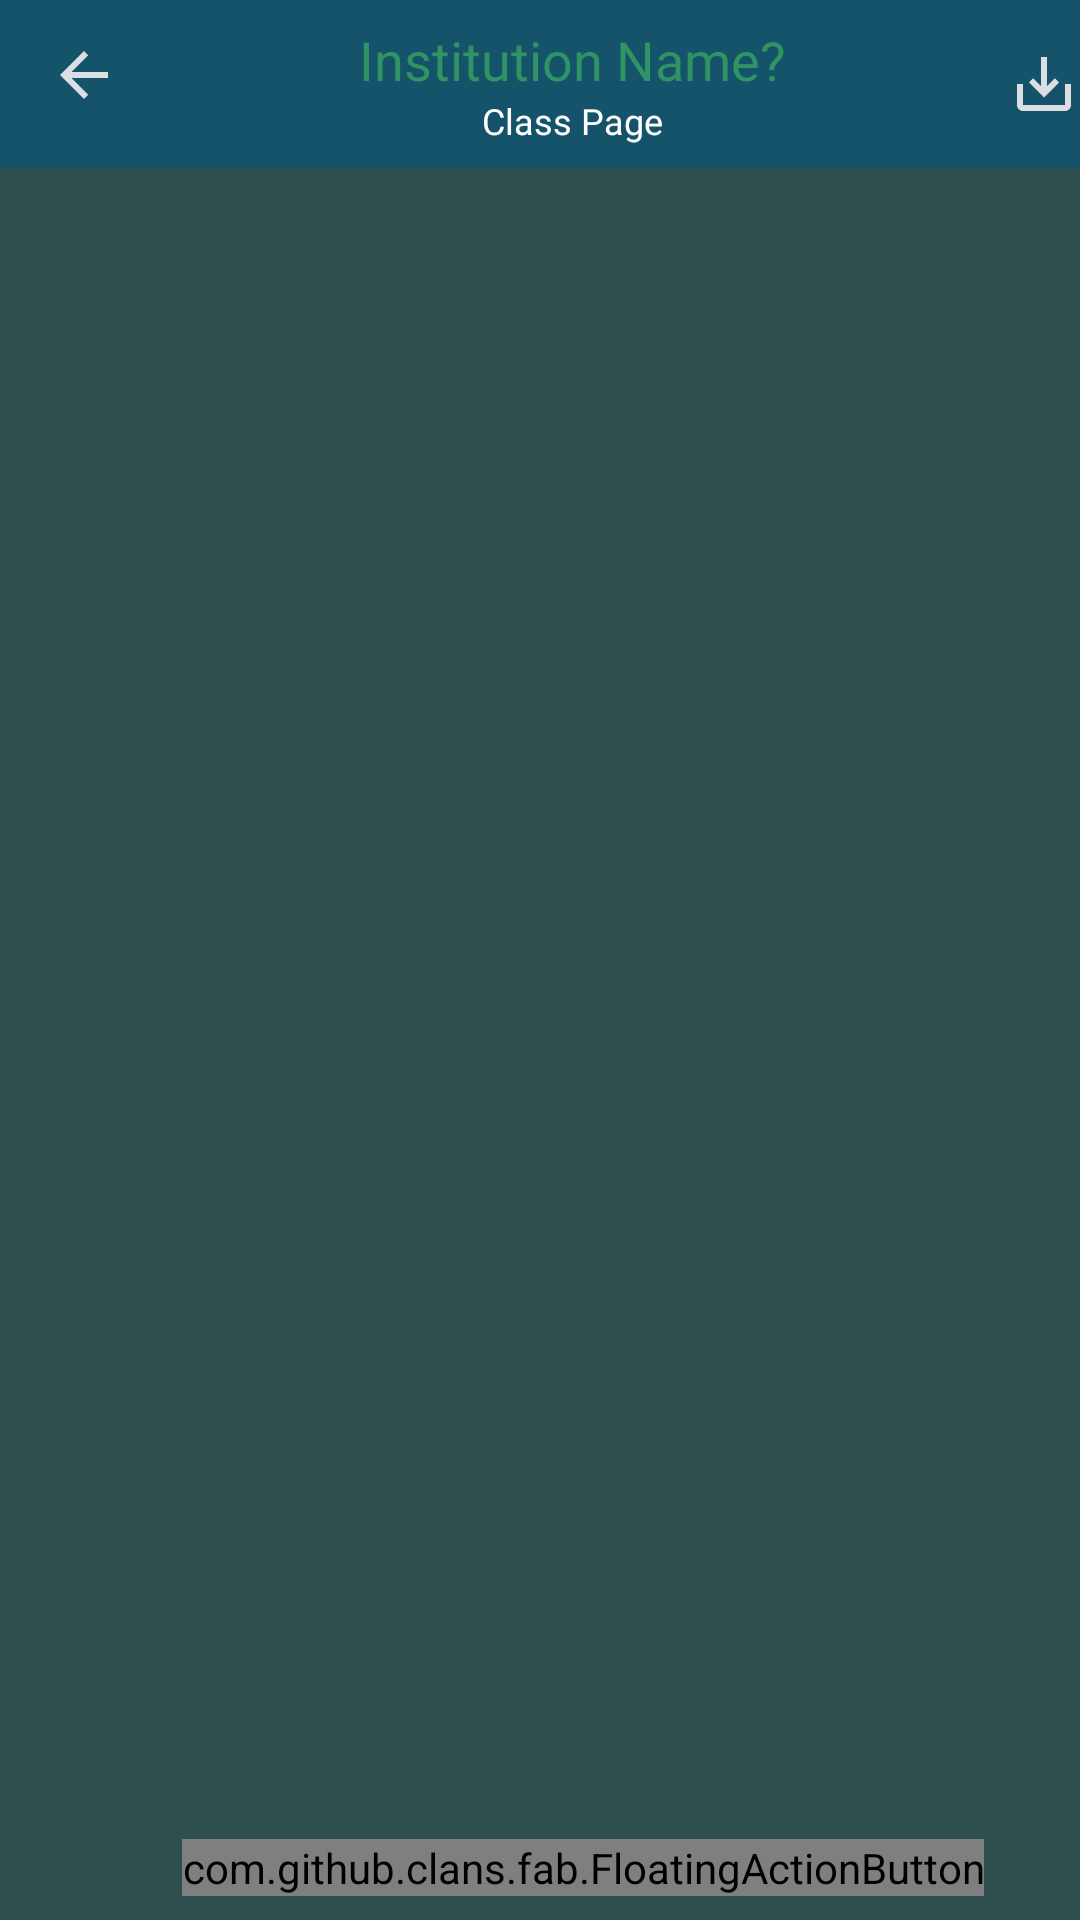

Screen size 1080w x 1920h. Icon name, then its center in pixels as [x,y]:
back: [84,75]
save: [1044,84]
